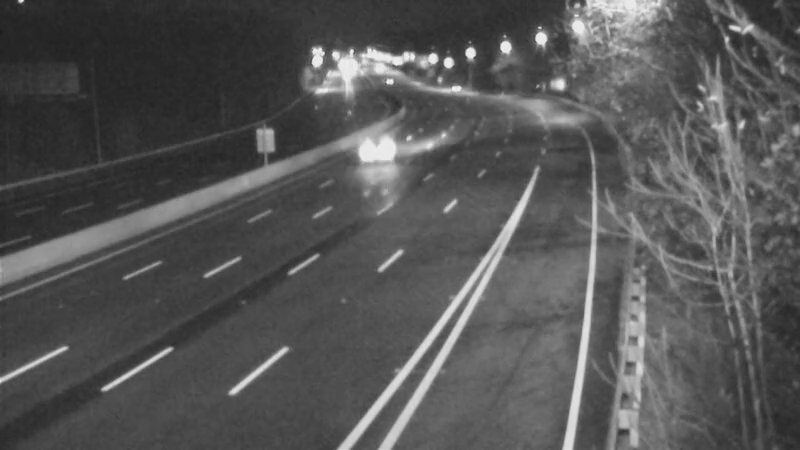vehicle: (432, 61, 482, 111), (348, 121, 398, 171)
